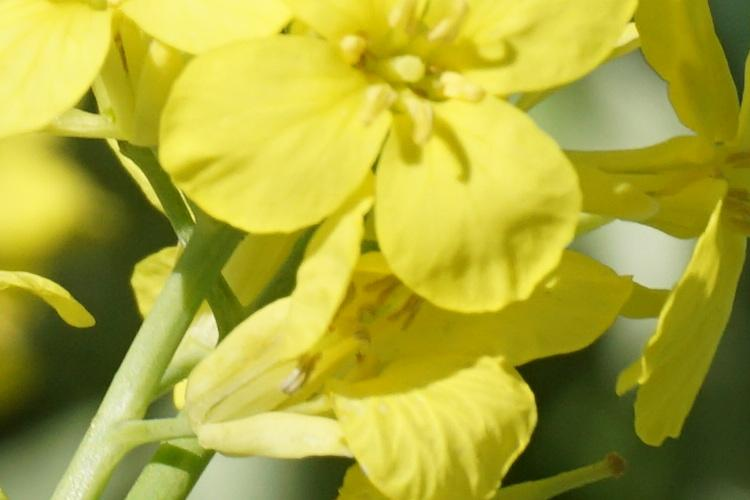pod: (482, 458, 661, 497)
yellow: (133, 10, 635, 285), (166, 219, 622, 475), (589, 14, 737, 409)
